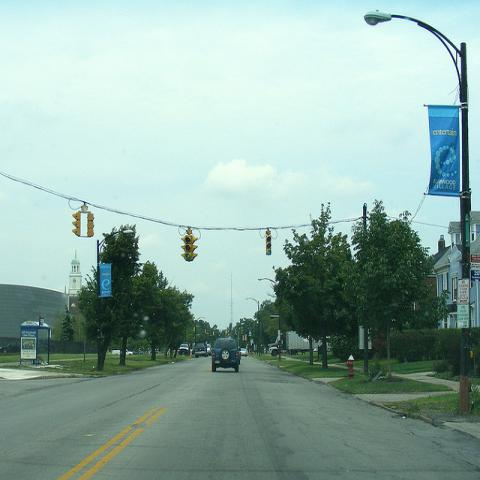car: (211, 338, 242, 372), (240, 349, 248, 356), (207, 344, 211, 354)
truck: (268, 331, 310, 357), (195, 342, 207, 358), (178, 344, 190, 354)
